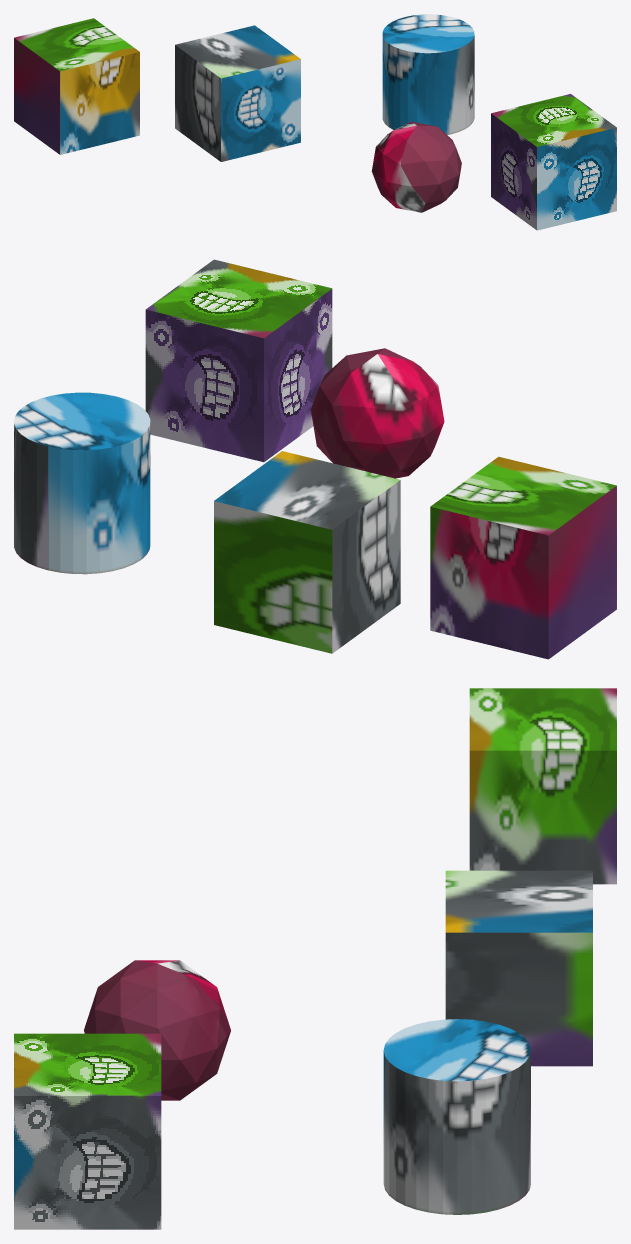
The model's file is foo.glb.
3 renders of one model, top to bottom at view 1: azimuth 30°, elevation 25°; view 2: azimuth 150°, elevation 25°; view 3: azimuth 270°, elevation 25°, orthographic. The views are drawn at different scales.
Parts seen in each view (by area): view 1: cube-a, cube-c, cube-b, cycl-d, iscosp-e; view 2: cube-a, cube-b, cube-c, cycl-d, iscosp-e; view 3: cube-c, cube-b, cycl-d, cube-a, iscosp-e.
Part boxes in pixels (x1,y1,x2,y2): cube-a: [175, 25, 300, 161]; cube-c: [491, 94, 616, 230]; cube-b: [14, 18, 139, 154]; cycl-d: [382, 14, 474, 134]; iscosp-e: [371, 122, 461, 212]; cube-a: [214, 451, 400, 653]; cube-b: [430, 456, 616, 659]; cube-c: [145, 259, 332, 462]; cycl-d: [14, 392, 150, 574]; iscosp-e: [311, 348, 444, 478]; cube-c: [14, 1033, 161, 1229]; cube-b: [469, 688, 616, 884]; cycl-d: [383, 1019, 530, 1214]; cube-a: [445, 870, 592, 1066]; iscosp-e: [84, 960, 230, 1100].
Bounding box in the file's own units: 10.37 × 3.27 × 8.18.
2 materials, 2 textured.
